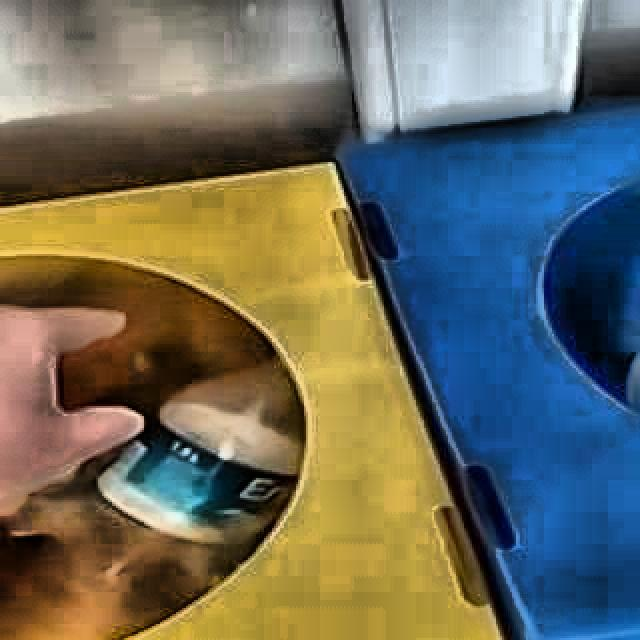plastic: (0, 364, 301, 640)
